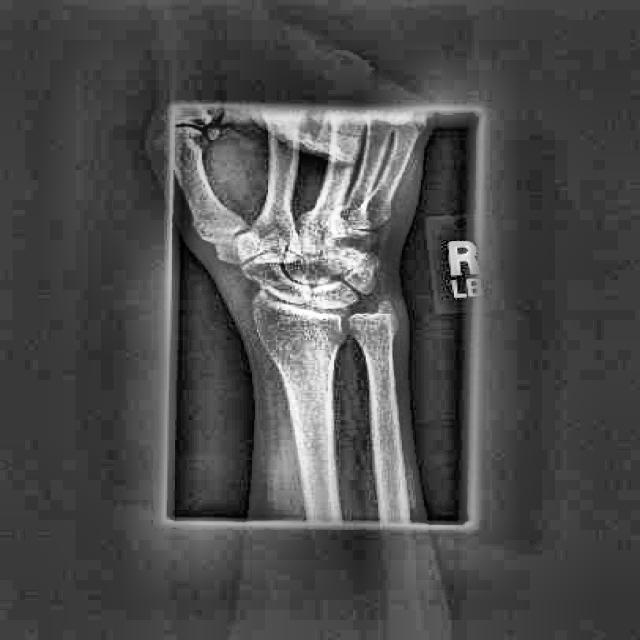fingers positive: (282, 242, 313, 274)
